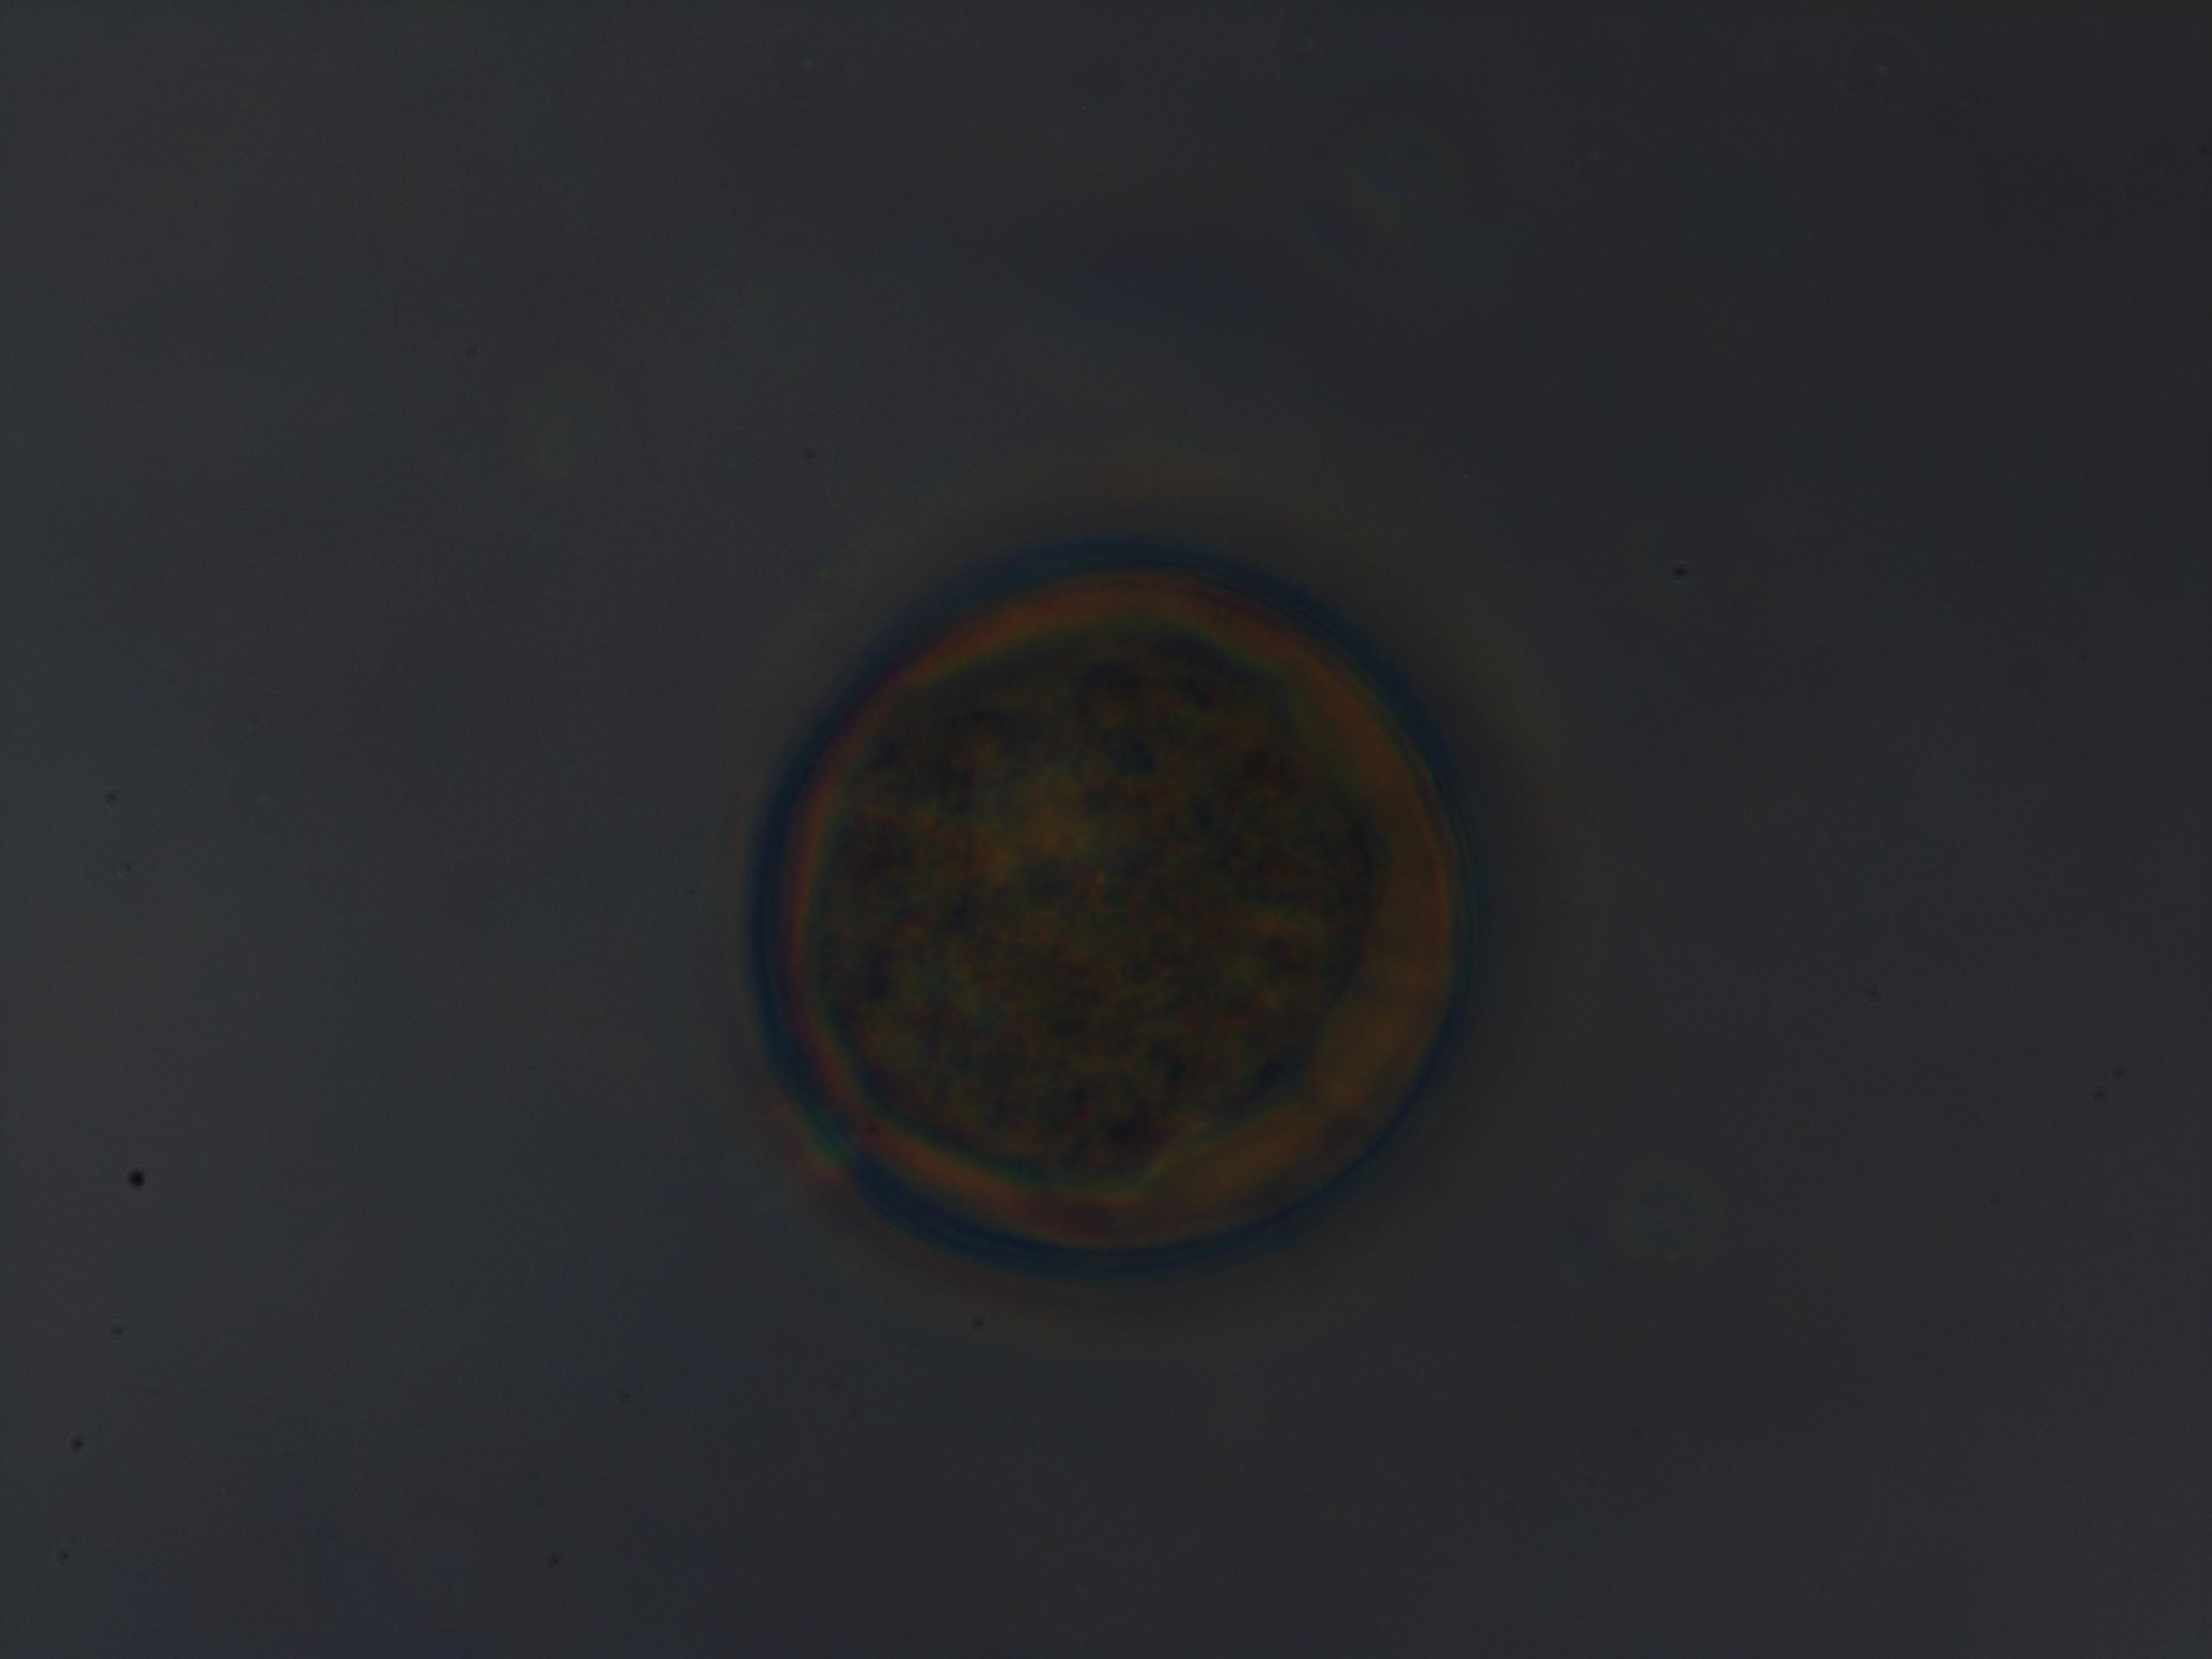protozoa: (693, 507, 1548, 1319)
